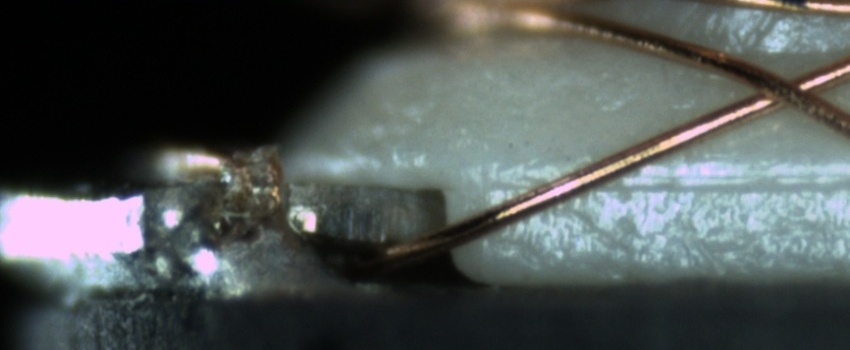CL: (729, 58, 836, 120)
DL: (492, 151, 849, 219)
TE: (158, 146, 293, 223)
